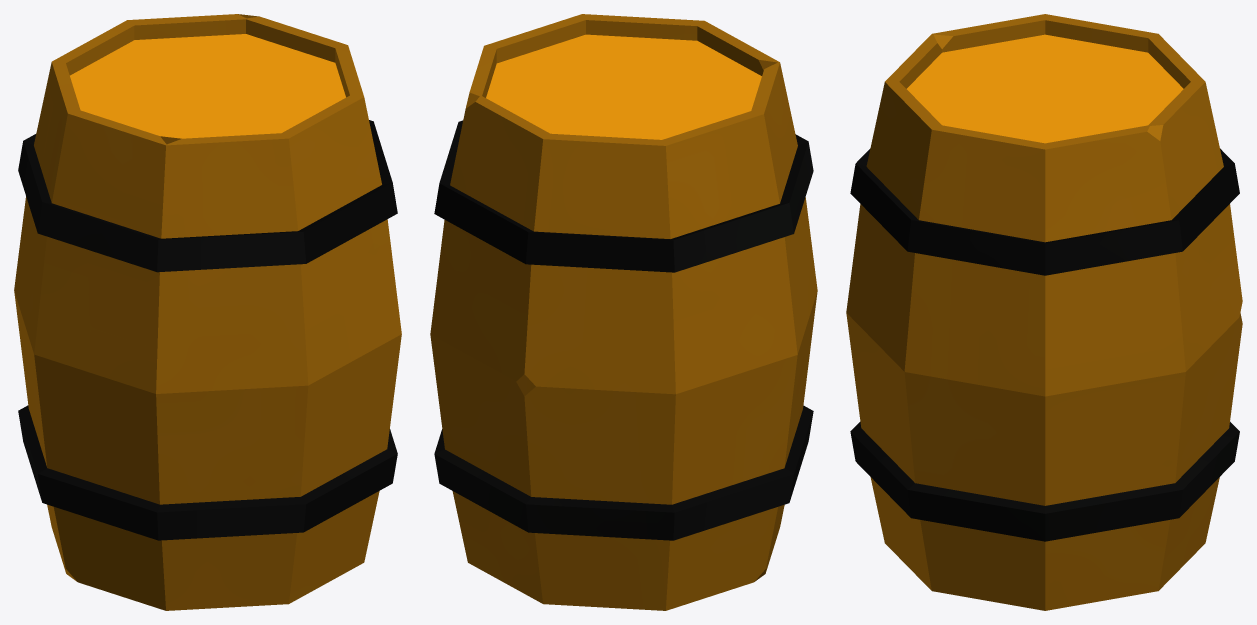
The model's file is Barrel_1.fbx.
The picture shows the model from 3 angles, left to right: view 1: azimuth 30°, elevation 25°; view 2: azimuth 150°, elevation 25°; view 3: azimuth 270°, elevation 25°; orthographic projection.
Visible parts, largest first — view 1: Barrel 1; view 2: Barrel 1; view 3: Barrel 1.
Part boxes in pixels (<box>): Barrel 1: <box>14,14,401,610</box>; Barrel 1: <box>430,14,817,610</box>; Barrel 1: <box>846,14,1242,610</box>.
Size of the model in its own units: 49.93 by 63.9 by 49.75.
